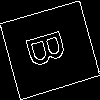B: (24, 25, 76, 70)
